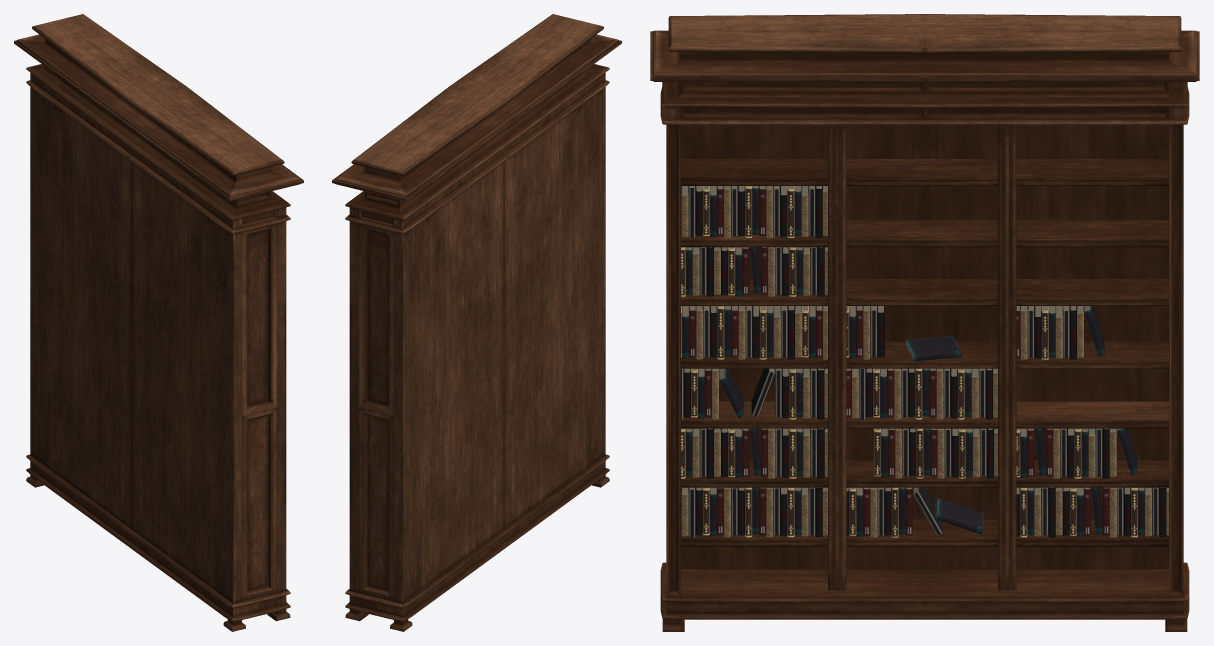
File: wooden-book-shelf-lowpoly.glb
3 renders of one model, left to right at view 1: azimuth 30°, elevation 25°; view 2: azimuth 150°, elevation 25°; view 3: azimuth 270°, elevation 25°, orthographic. The views are drawn at different scales.
Visible parts, largest first — view 1: shelf; view 2: shelf; view 3: shelf, book.
Boxes of the visible parts, box(x1,y1,x2,y2) form: shelf: box(14, 14, 303, 631); shelf: box(332, 14, 621, 631); shelf: box(650, 14, 1199, 631); book: box(681, 186, 1168, 537).
Bounding box in the file's own units: 0.5692 × 3.29 × 2.81.
Materials: 2 (2 with a texture image).
